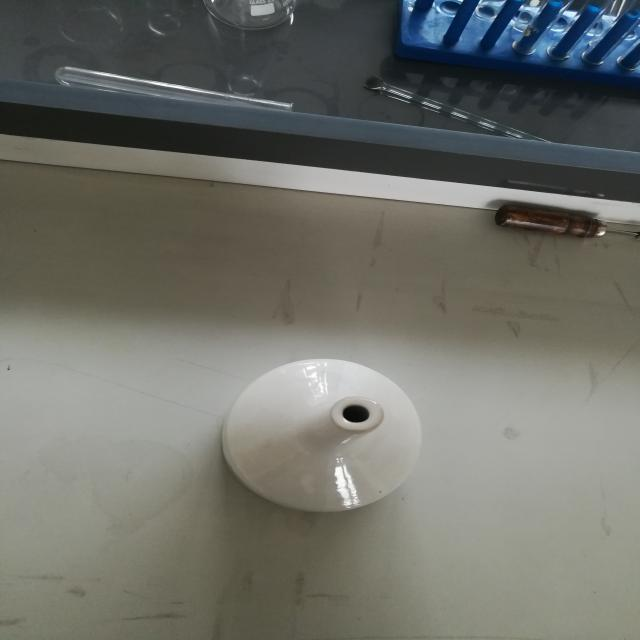Buchner_Funnel: (170, 314, 475, 548)
